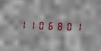eight: (53, 20, 61, 31)
one: (17, 18, 25, 30), (71, 20, 79, 32), (26, 19, 34, 30)
six: (44, 19, 52, 31)
zero: (35, 19, 43, 30), (62, 20, 70, 31)
